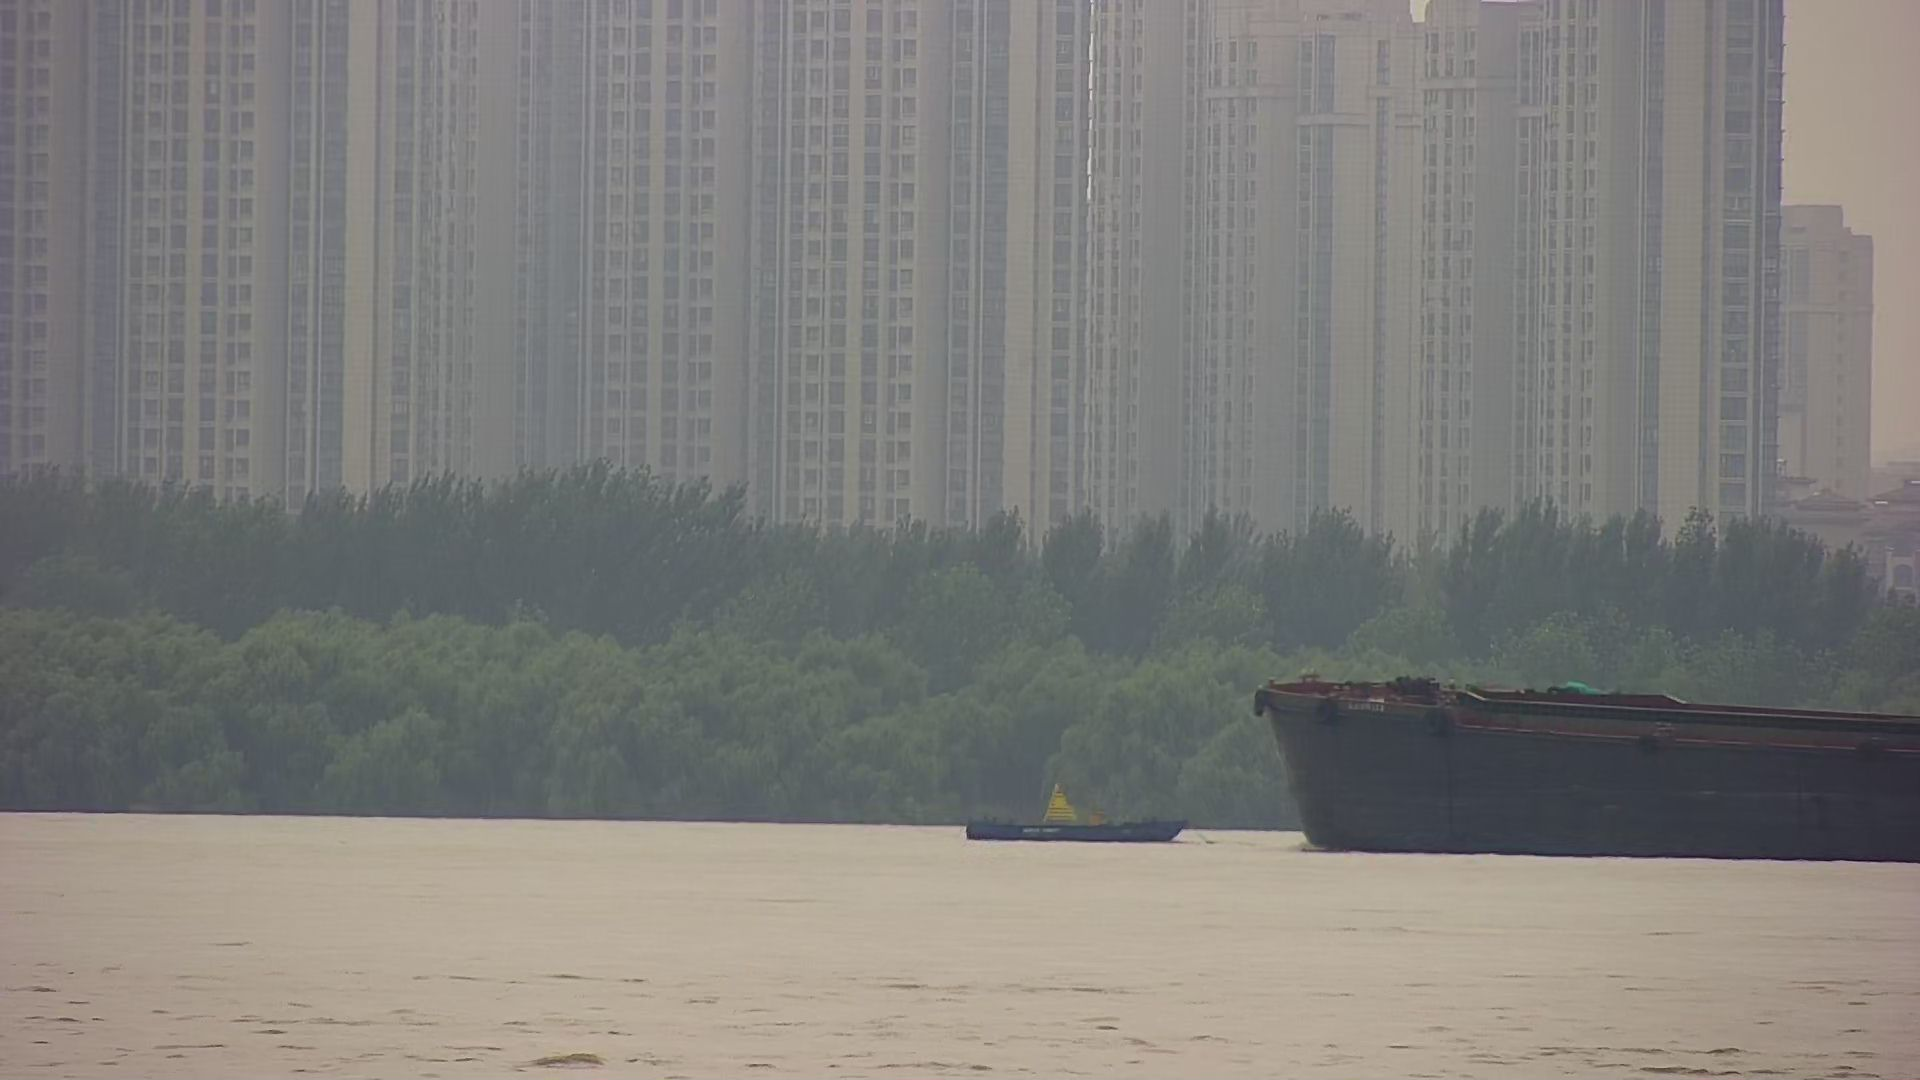boat: (964, 782, 1189, 847)
ship: (1253, 669, 1920, 868)
